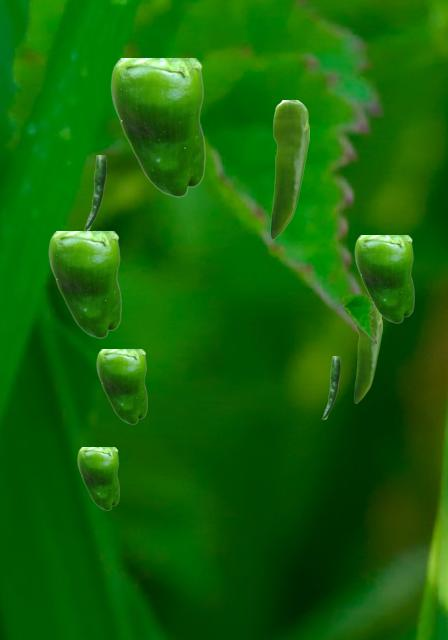green_chili: (110, 58, 204, 196), (48, 231, 120, 337), (270, 100, 308, 238), (354, 235, 413, 322), (96, 349, 146, 423), (77, 447, 118, 509), (354, 308, 381, 402), (84, 155, 105, 229), (322, 356, 339, 418)
